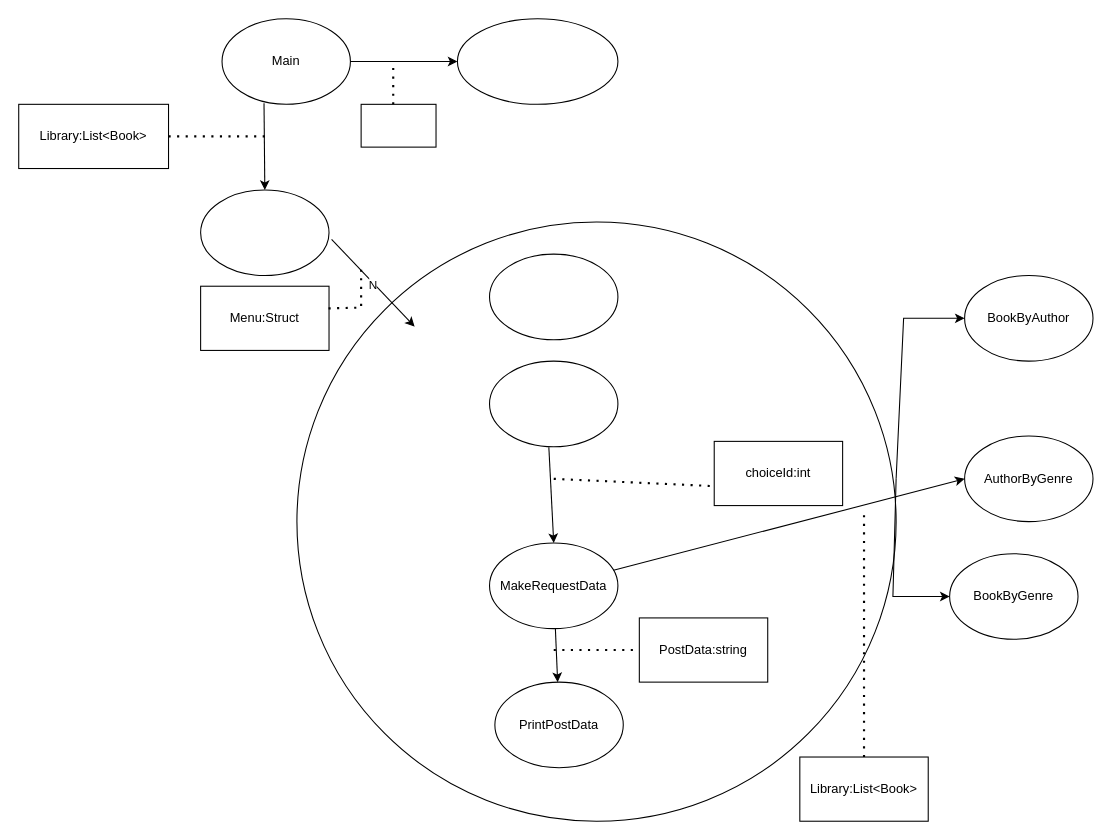
This 1112x840 diagram has some shape labels left out. The shapes that lost their labels are listed below. From the top down, each one's box as (x1, y1, x2, y2) in pixels, then its label:
(456, 18, 618, 104): ReadLibraryFromFile
(360, 103, 436, 147): file
(200, 189, 329, 276): StartMenu
(488, 253, 618, 340): Menu.ShowMenu
(488, 360, 618, 447): Menu.GetChoiceUser
